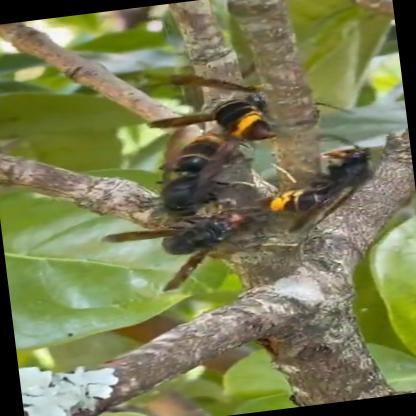bee: (70, 118, 244, 265), (246, 126, 399, 243), (198, 63, 278, 144)
